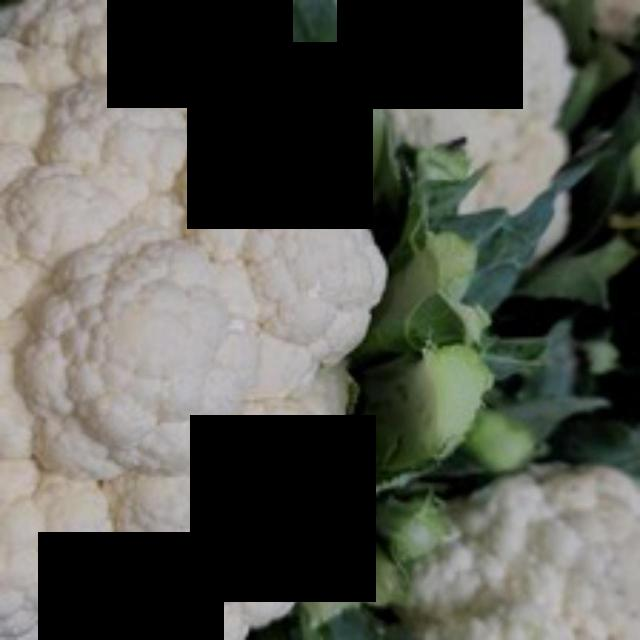cauliflower: (2, 0, 402, 637)
